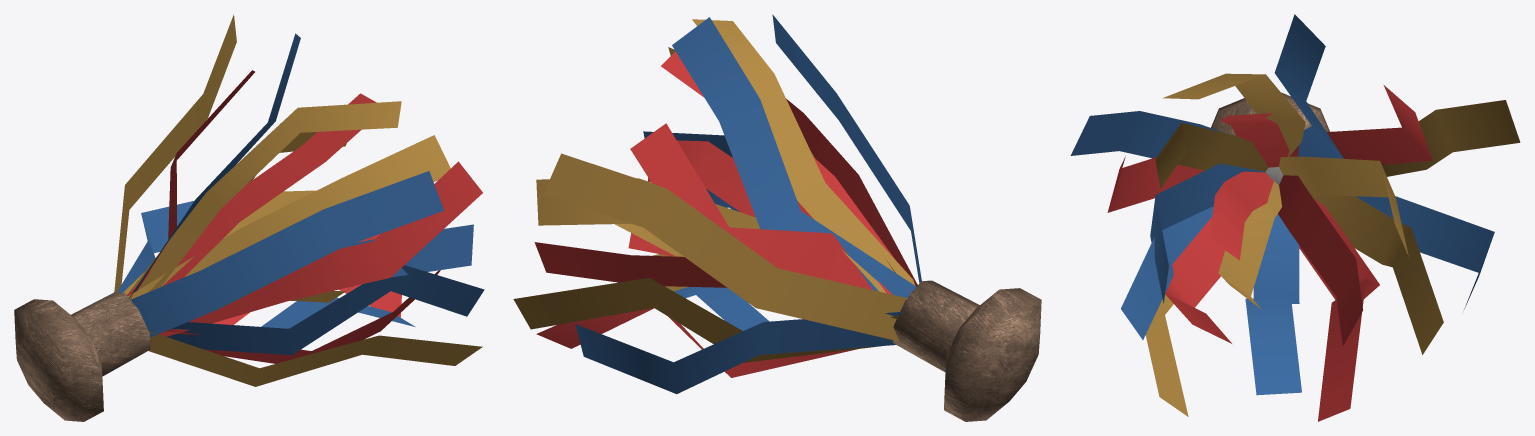
File: jegi_002.fbx
3 views of the same model, side by side, from view 1: azimuth 30°, elevation 25°; view 2: azimuth 150°, elevation 25°; view 3: azimuth 270°, elevation 25° (orthographic). The views are drawn at different scales.
Visible parts, largest first — view 1: jegi_002; view 2: jegi_002; view 3: jegi_002.
Part boxes in pixels (bbox=[...]): jegi_002: bbox=[14, 14, 484, 421]; jegi_002: bbox=[513, 14, 1041, 421]; jegi_002: bbox=[1070, 14, 1520, 421].
Bounding box in the file's own units: 37.03 × 27.8 × 32.63.
